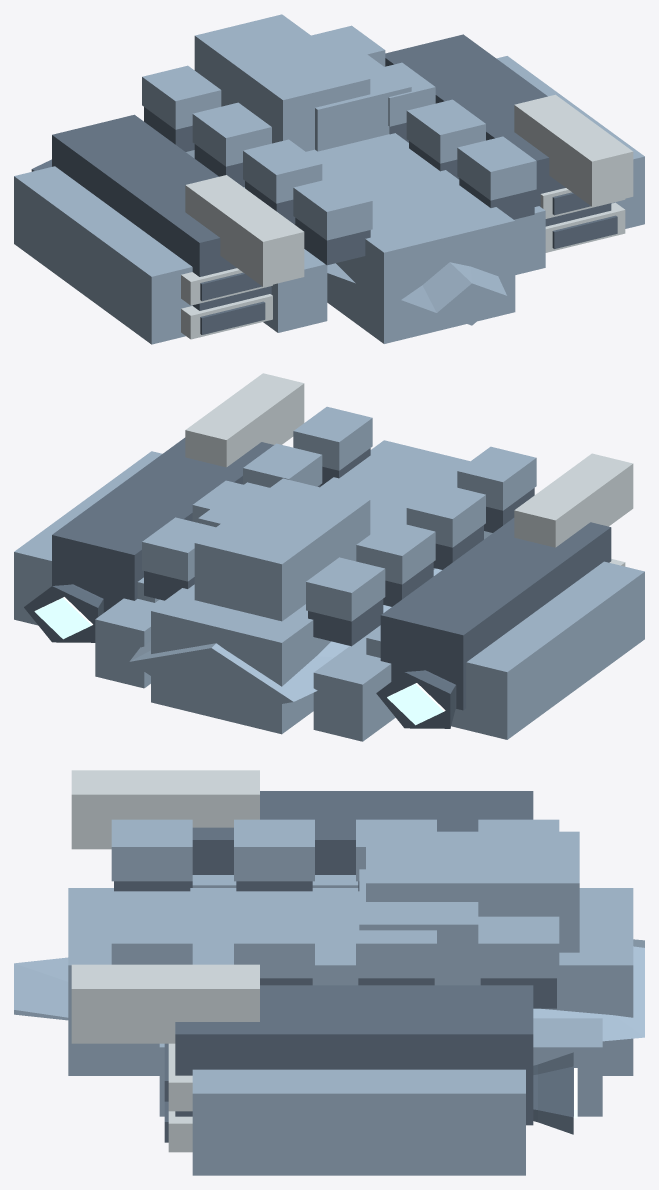
3 views of the same model, one above another, from view 1: azimuth 30°, elevation 25°; view 2: azimuth 150°, elevation 25°; view 3: azimuth 270°, elevation 25° (orthographic). The views are drawn at different scales.
Bounding box in the file's own units: 18.07 × 5.86 × 16.53.
